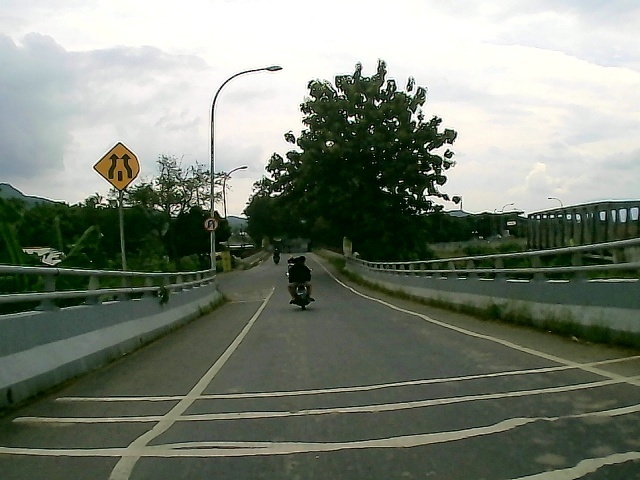Akhir bangunan pemisah satu arah: (89, 140, 147, 195)
Dilarang berbalik arah: (201, 216, 219, 234)
